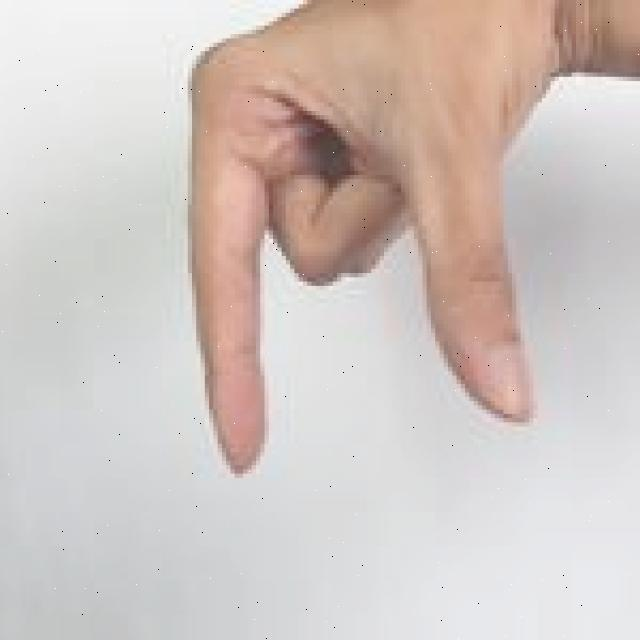Q: (170, 0, 640, 490)
